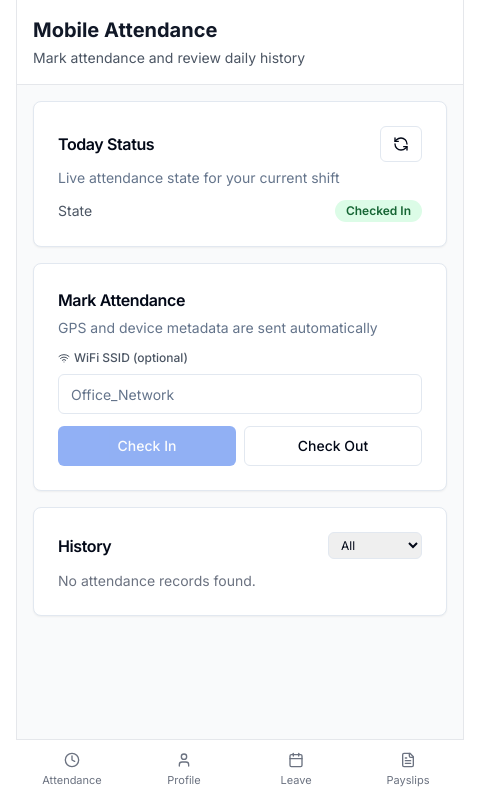
Test case: MobileAttendancePage › shows API error when check-out fails
What coordinates should you click on to do the following:
click the button "Check Out"
I would click on:
 (333, 446)
Its box is [244,426,422,466].
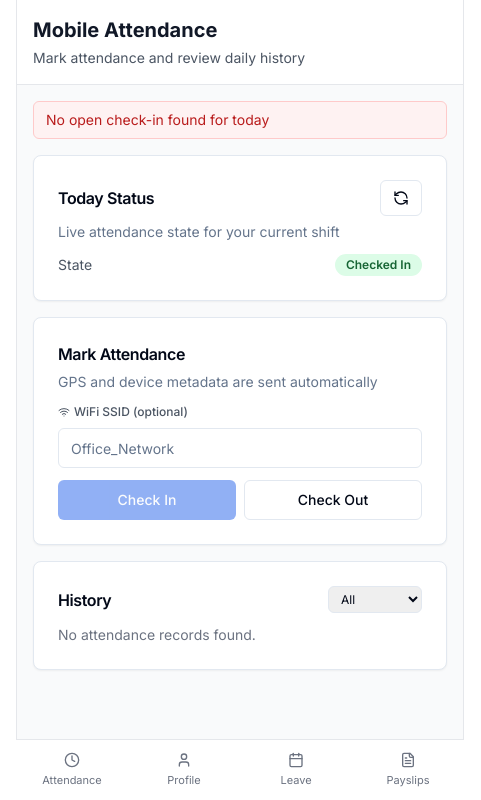
expect the text "No open check-in found for today" is shown: met, box [33,101,447,139]
